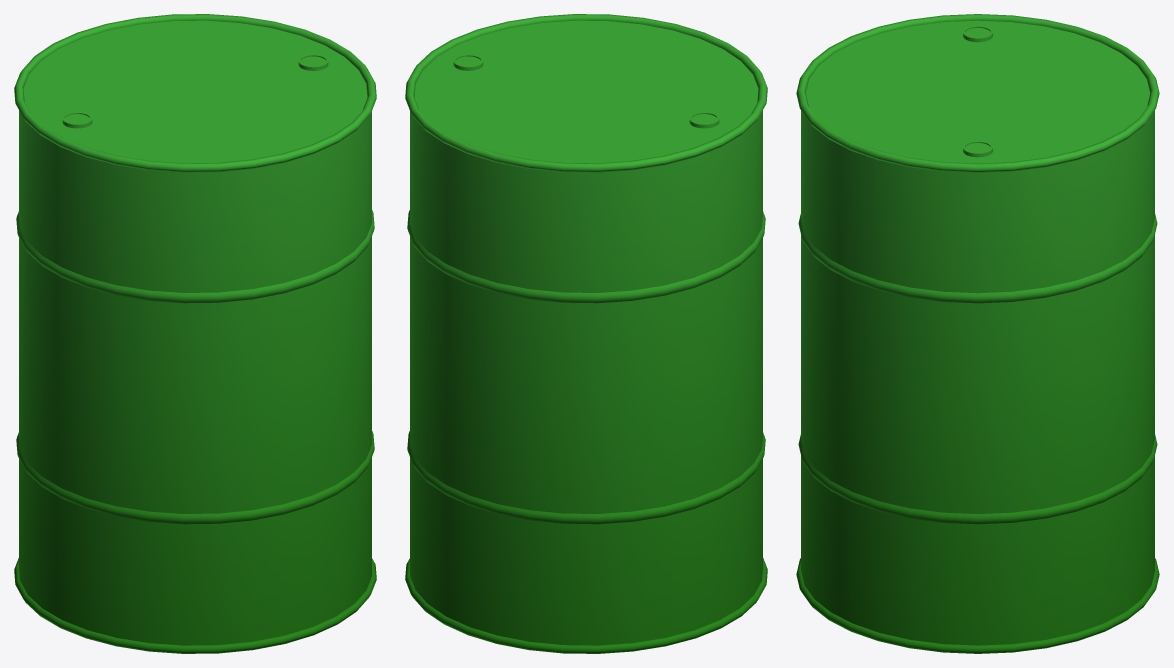
Rendered from barrel_02_big_green.glb.
3 renders of one model, left to right at view 1: azimuth 30°, elevation 25°; view 2: azimuth 150°, elevation 25°; view 3: azimuth 270°, elevation 25°, orthographic.
Visible parts, largest first — view 1: barrel_02_big_green; view 2: barrel_02_big_green; view 3: barrel_02_big_green.
Boxes of the visible parts, x1,y1,x2,y2 form: barrel_02_big_green: (14,14,376,653); barrel_02_big_green: (405,14,767,653); barrel_02_big_green: (796,14,1159,653).
Bounding box in the file's own units: 0.616 × 0.9139 × 0.616.
1 material, 1 textured.
